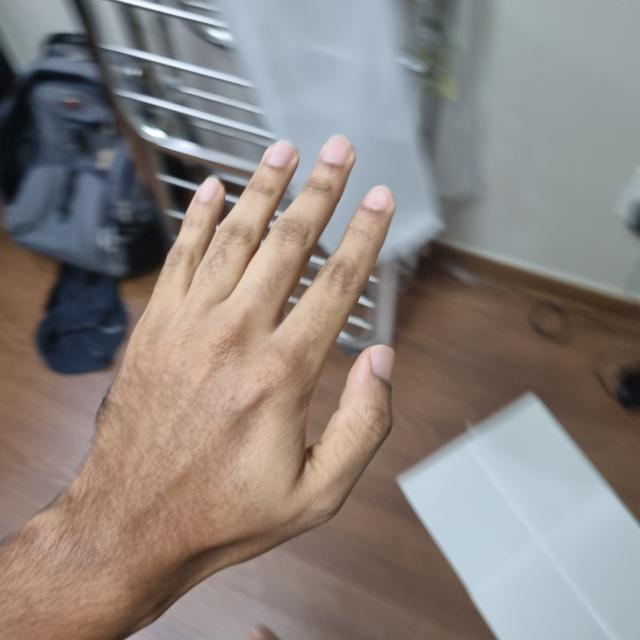Paper: (88, 133, 396, 567)
